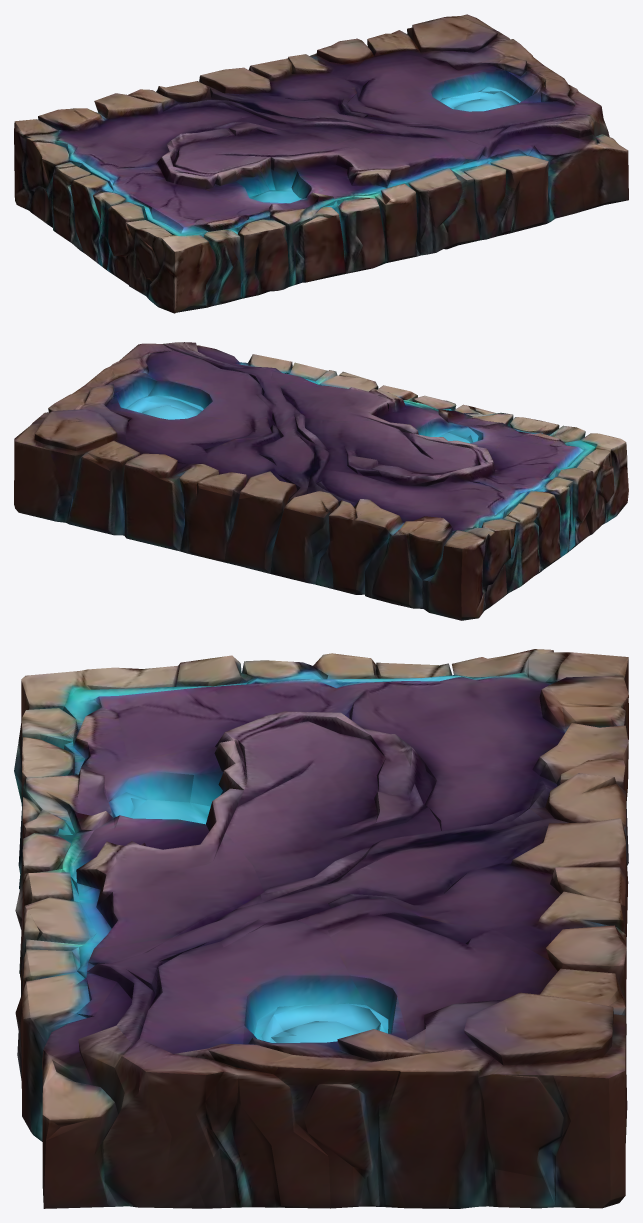
The model's file is m2AlienLaneSlab.glb.
The picture shows the model from 3 angles, top to bottom: view 1: azimuth 30°, elevation 25°; view 2: azimuth 150°, elevation 25°; view 3: azimuth 270°, elevation 25°; orthographic projection. The views are drawn at different scales.
Visible parts, largest first — view 1: model; view 2: model; view 3: model.
Boxes of the visible parts, left/top/right/bottom form: model: left=14, top=14, right=628, bottom=313; model: left=14, top=342, right=628, bottom=620; model: left=14, top=649, right=628, bottom=1208.
Size of the model in its own units: 1.89 by 0.3085 by 1.16.
1 material, 1 textured.
